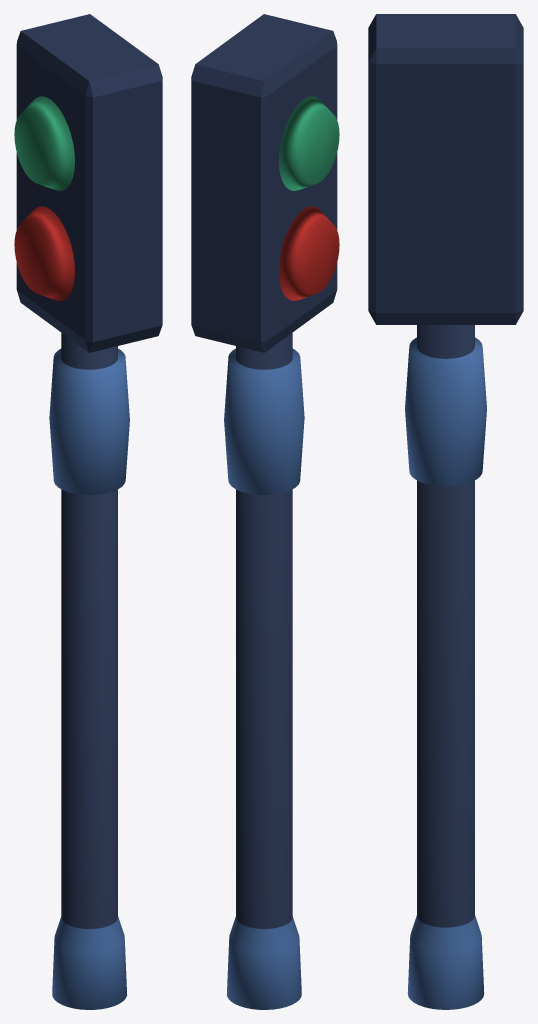
File: TrafficLightModel04.fbx
3 views of the same model, side by side, from view 1: azimuth 30°, elevation 25°; view 2: azimuth 150°, elevation 25°; view 3: azimuth 270°, elevation 25° (orthographic).
Parts seen in each view (by area): view 1: TrafficLight04; view 2: TrafficLight04; view 3: TrafficLight04.
Boxes of the visible parts, x1,y1,x2,y2 form: TrafficLight04: (14,14,162,1009); TrafficLight04: (191,14,339,1009); TrafficLight04: (368,14,523,1009).
Bounding box in the file's own units: 27.77 × 263 × 38.46.
